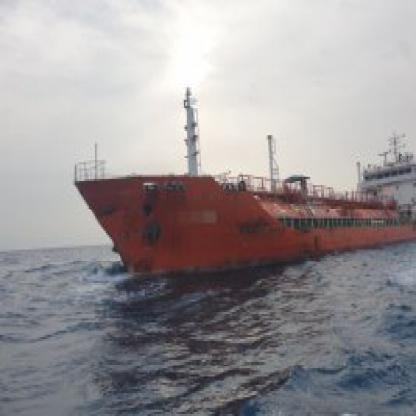fish-b: (61, 89, 414, 285)
